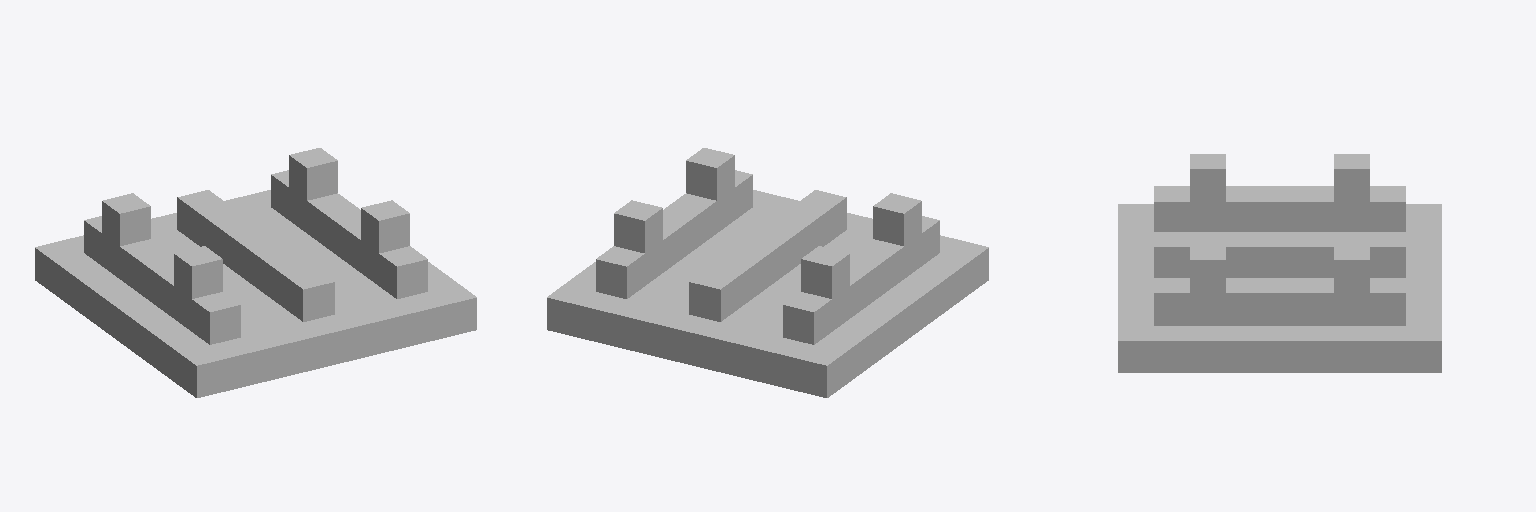
File: Beet 1.obj
3 views of the same model, side by side, from view 1: azimuth 30°, elevation 25°; view 2: azimuth 150°, elevation 25°; view 3: azimuth 270°, elevation 25° (orthographic).
Visible parts, largest first — view 1: object 1; view 2: object 1; view 3: object 1.
Boxes of the visible parts, x1,y1,x2,y2 form: object 1: [35, 148, 476, 397]; object 1: [547, 148, 988, 397]; object 1: [1118, 154, 1441, 372].
Bounding box in the file's own units: 0.9 × 0.3 × 0.9.